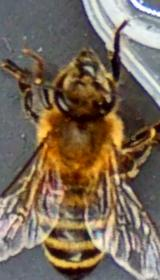varroa_mite: (28, 168, 58, 197)
